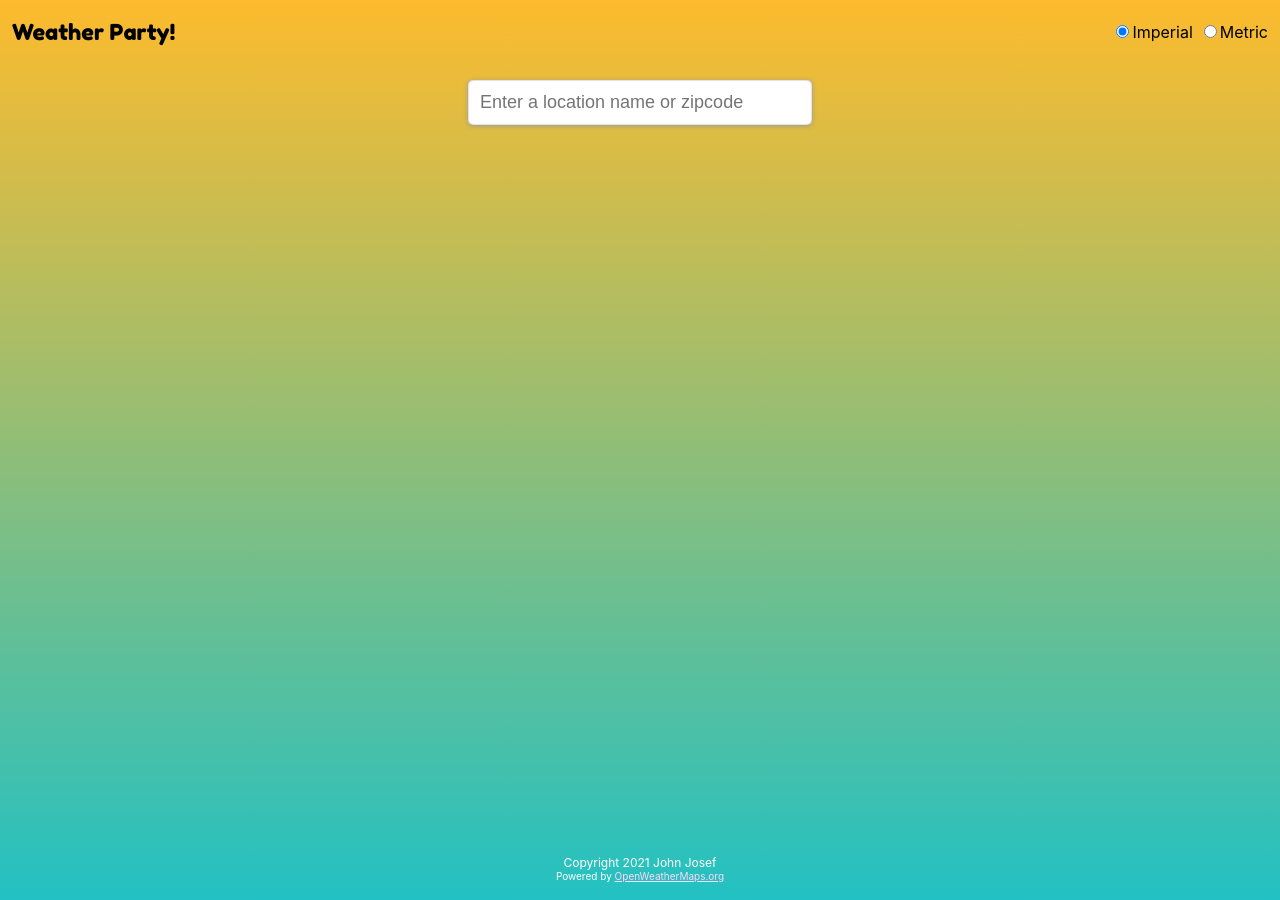
Test: loading locations from input
In the field labelled "location": (640,102) [468, 80, 812, 125], type "Charleston, SC"
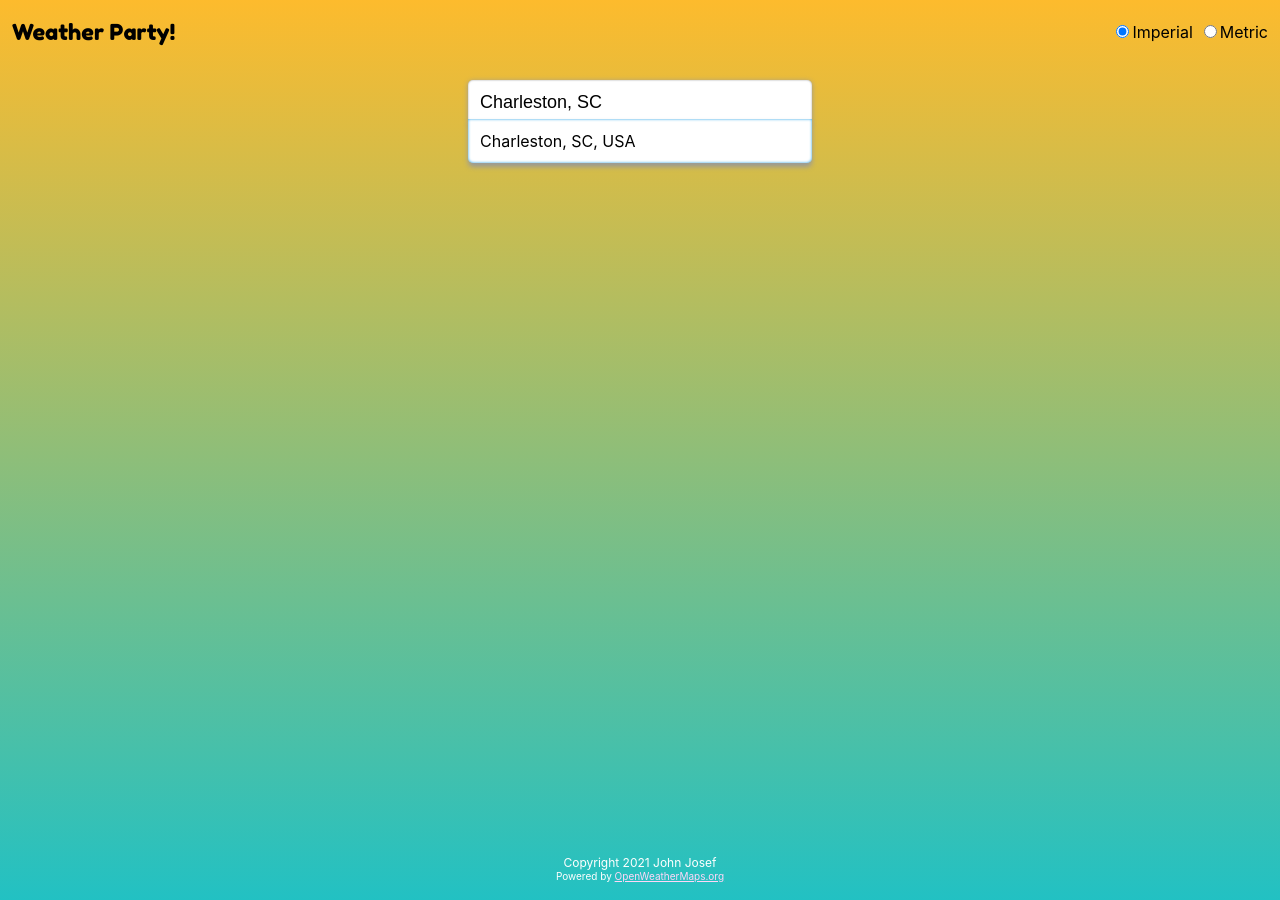
Result: the text "Charleston, SC, USA" is shown at [480, 131, 636, 151]
